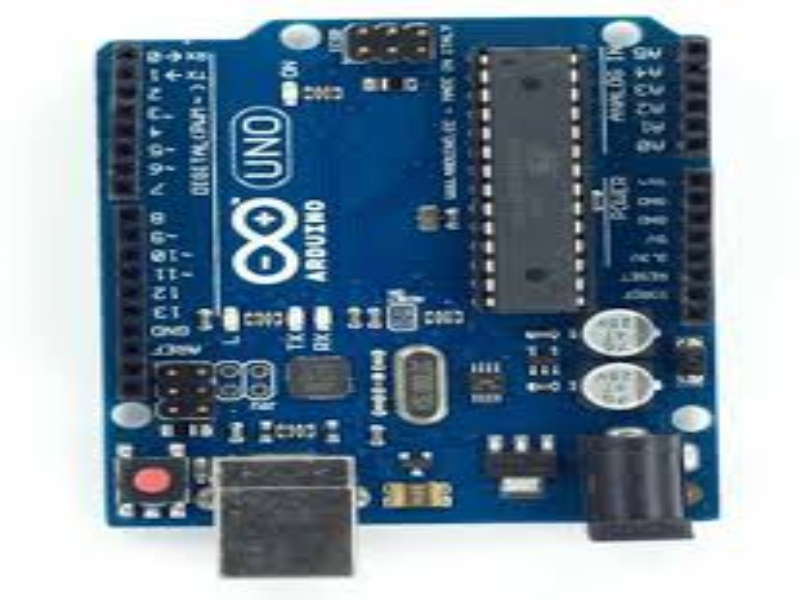uno: (81, 14, 714, 541)
